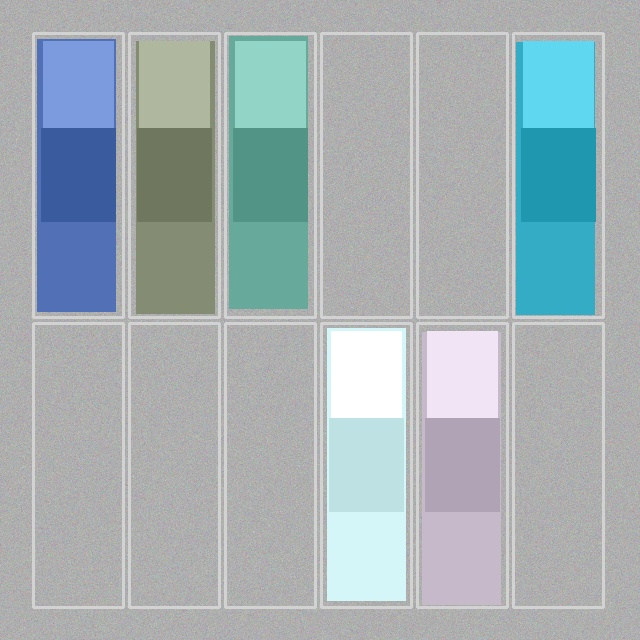space-empty: (323, 35, 409, 315), (419, 35, 505, 315), (35, 325, 121, 605), (131, 325, 217, 605), (227, 325, 313, 605), (515, 325, 601, 605)
space-occupied: (35, 35, 121, 315), (131, 35, 217, 315), (227, 35, 313, 315), (515, 35, 601, 315), (323, 325, 409, 605), (419, 325, 505, 605)
